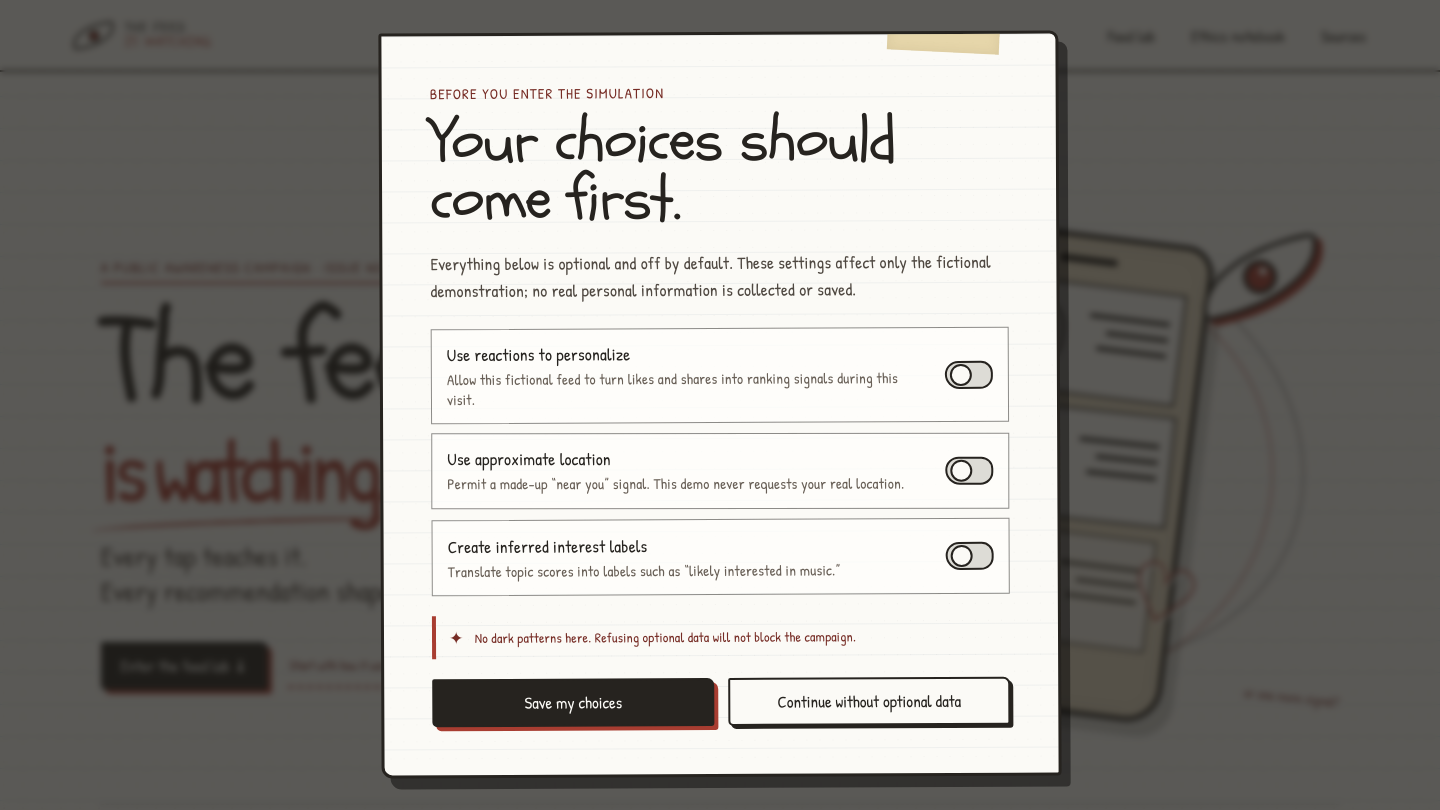
Test case: The Feed Is Watching campaign › allows full campaign access when optional data is refused
Click the button "Continue without optional data" at point(869, 702), box [728,677,1010,727]
(page scrolled)
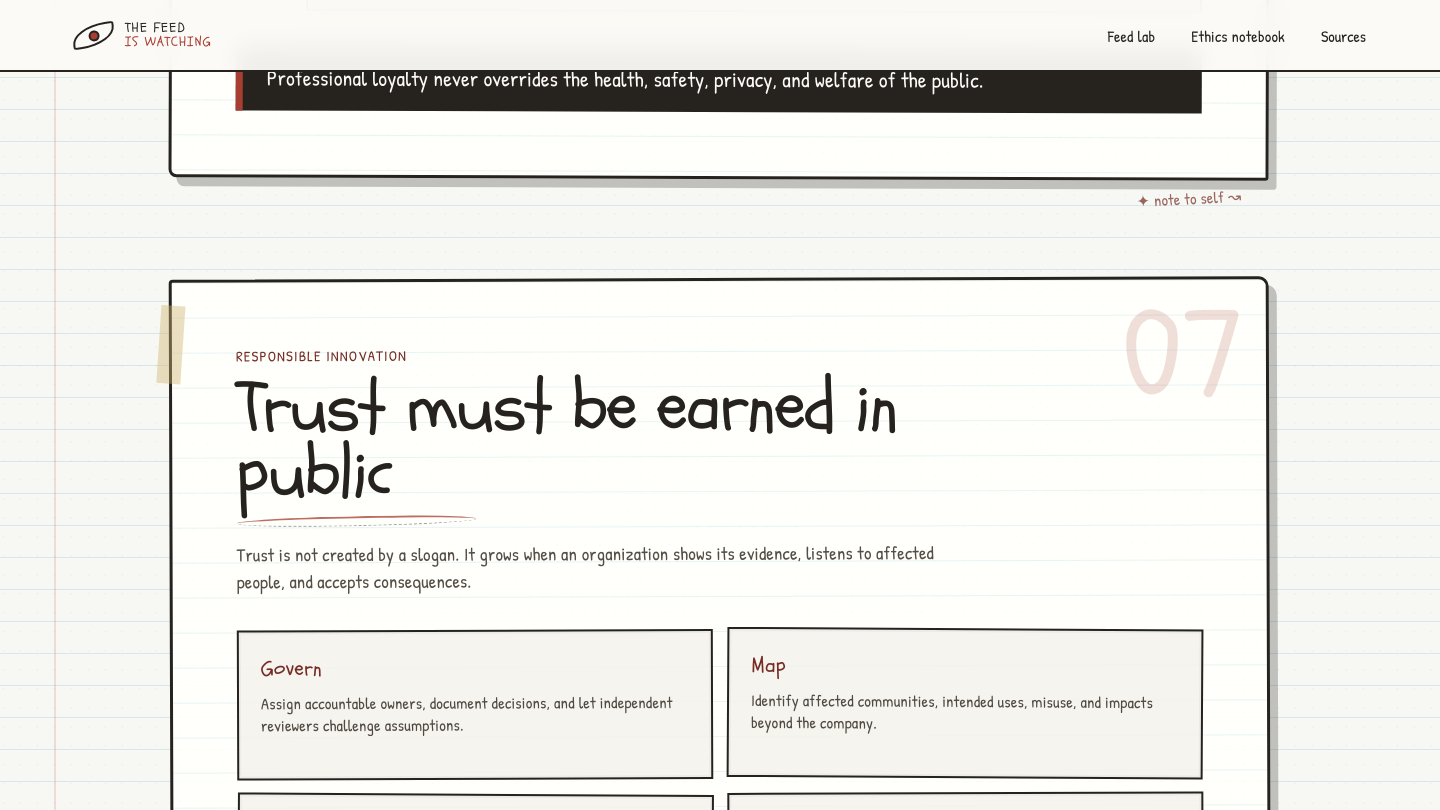
Expected: the heading "Trust must be earned in public" is shown, [236,357,897,523]
Result: the heading "Your choices should come first" is gone
